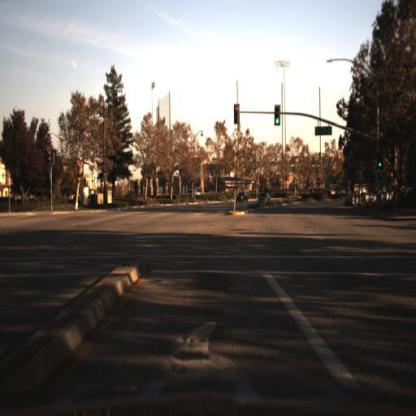car: (184, 186, 205, 200), (235, 187, 250, 206), (256, 193, 270, 209)
trafficLight-Green: (274, 100, 281, 129), (274, 114, 282, 132), (376, 153, 384, 171), (377, 159, 385, 173)
trafficLight-Red: (388, 170, 396, 185)
trafficLight-RedLeft: (234, 103, 244, 129), (234, 102, 242, 124)
